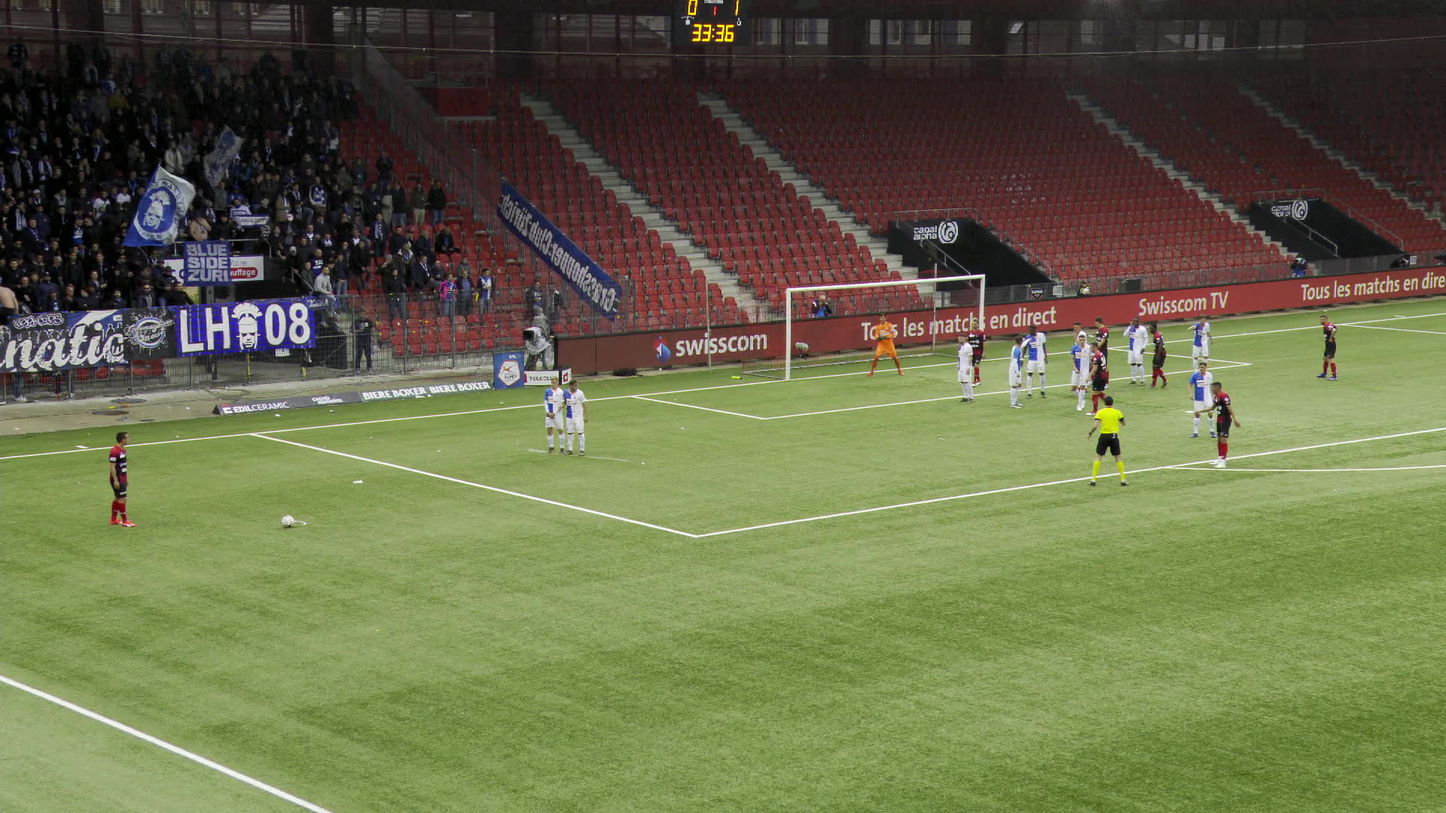ball: (283, 514, 295, 526)
player: (1195, 381, 1239, 467), (107, 431, 137, 527), (560, 379, 593, 456), (1186, 362, 1219, 438), (865, 311, 899, 376), (1068, 333, 1095, 414), (1020, 325, 1049, 399), (1084, 343, 1112, 416), (1185, 314, 1216, 377), (541, 376, 565, 452), (1121, 316, 1147, 385), (1005, 337, 1030, 408), (1087, 316, 1108, 388), (1316, 314, 1338, 381), (953, 334, 974, 403), (965, 318, 986, 385), (1147, 323, 1167, 388), (1069, 322, 1086, 391)
referee: (1084, 397, 1130, 486)
